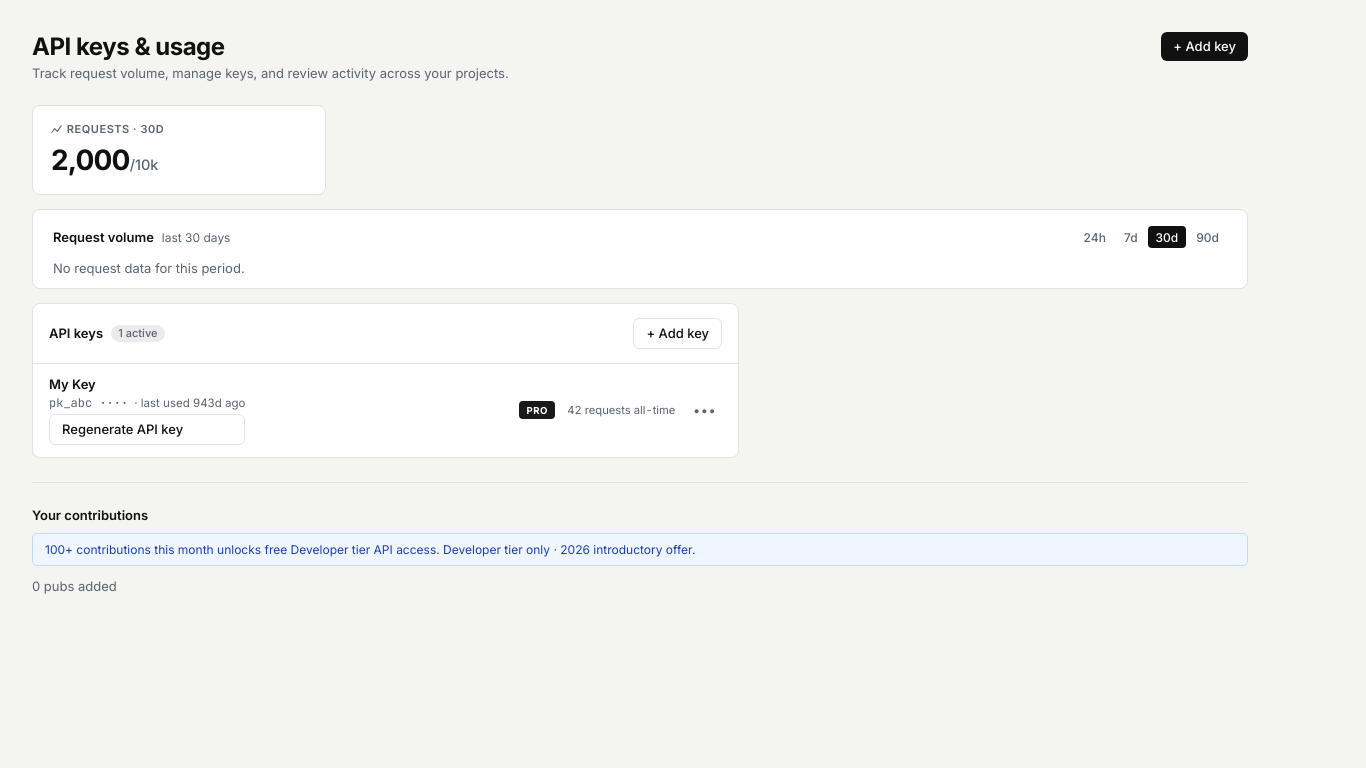
Test: Dashboard › forgot API key › shows Forgot API key option in key menu for non-HOBBY ACTIVE keys
Expected: the text "My Key" is shown, [49, 376, 96, 392]
Click the button named "More options for My Key" at (705, 411), box [687, 401, 722, 422]
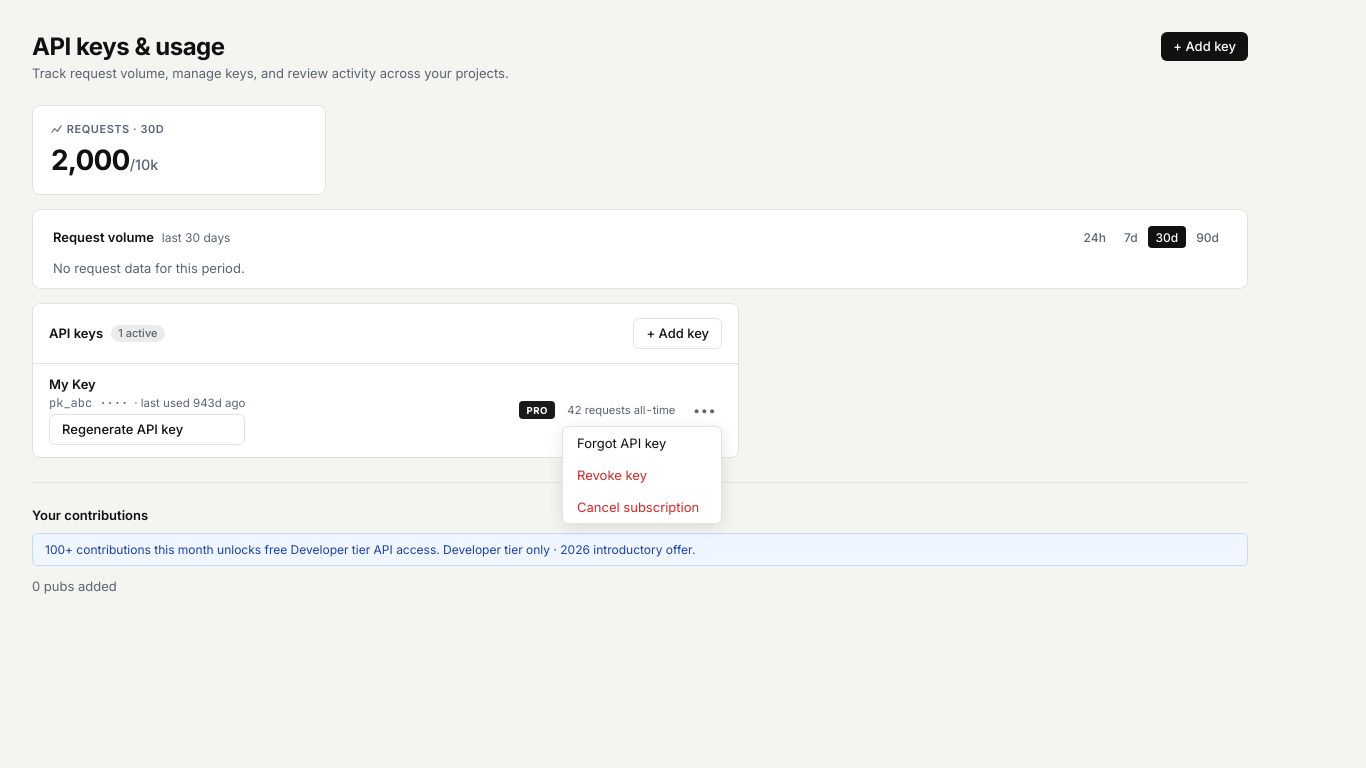
Expected: the button "Forgot API key" is shown, [563, 426, 721, 458]
